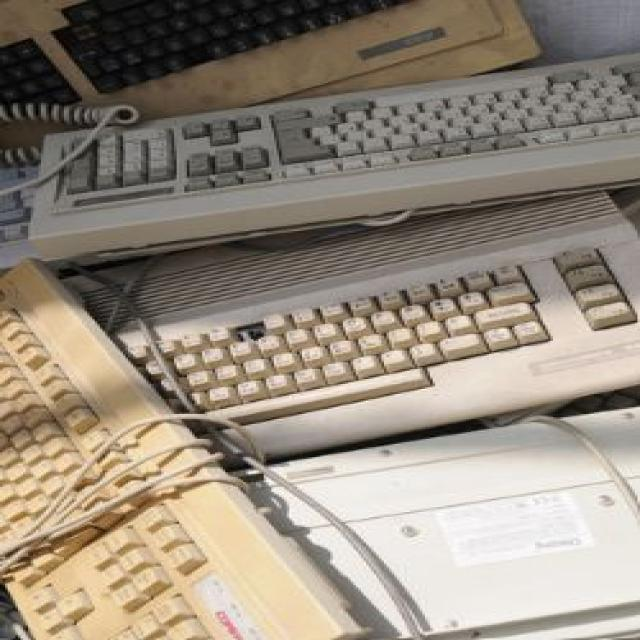electronic: (27, 253, 640, 504), (23, 38, 640, 282)
